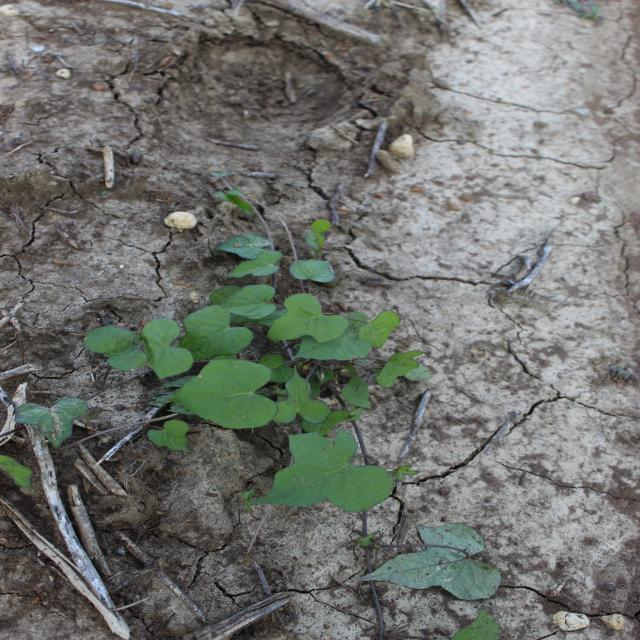MorningGlory: (7, 168, 509, 637)
